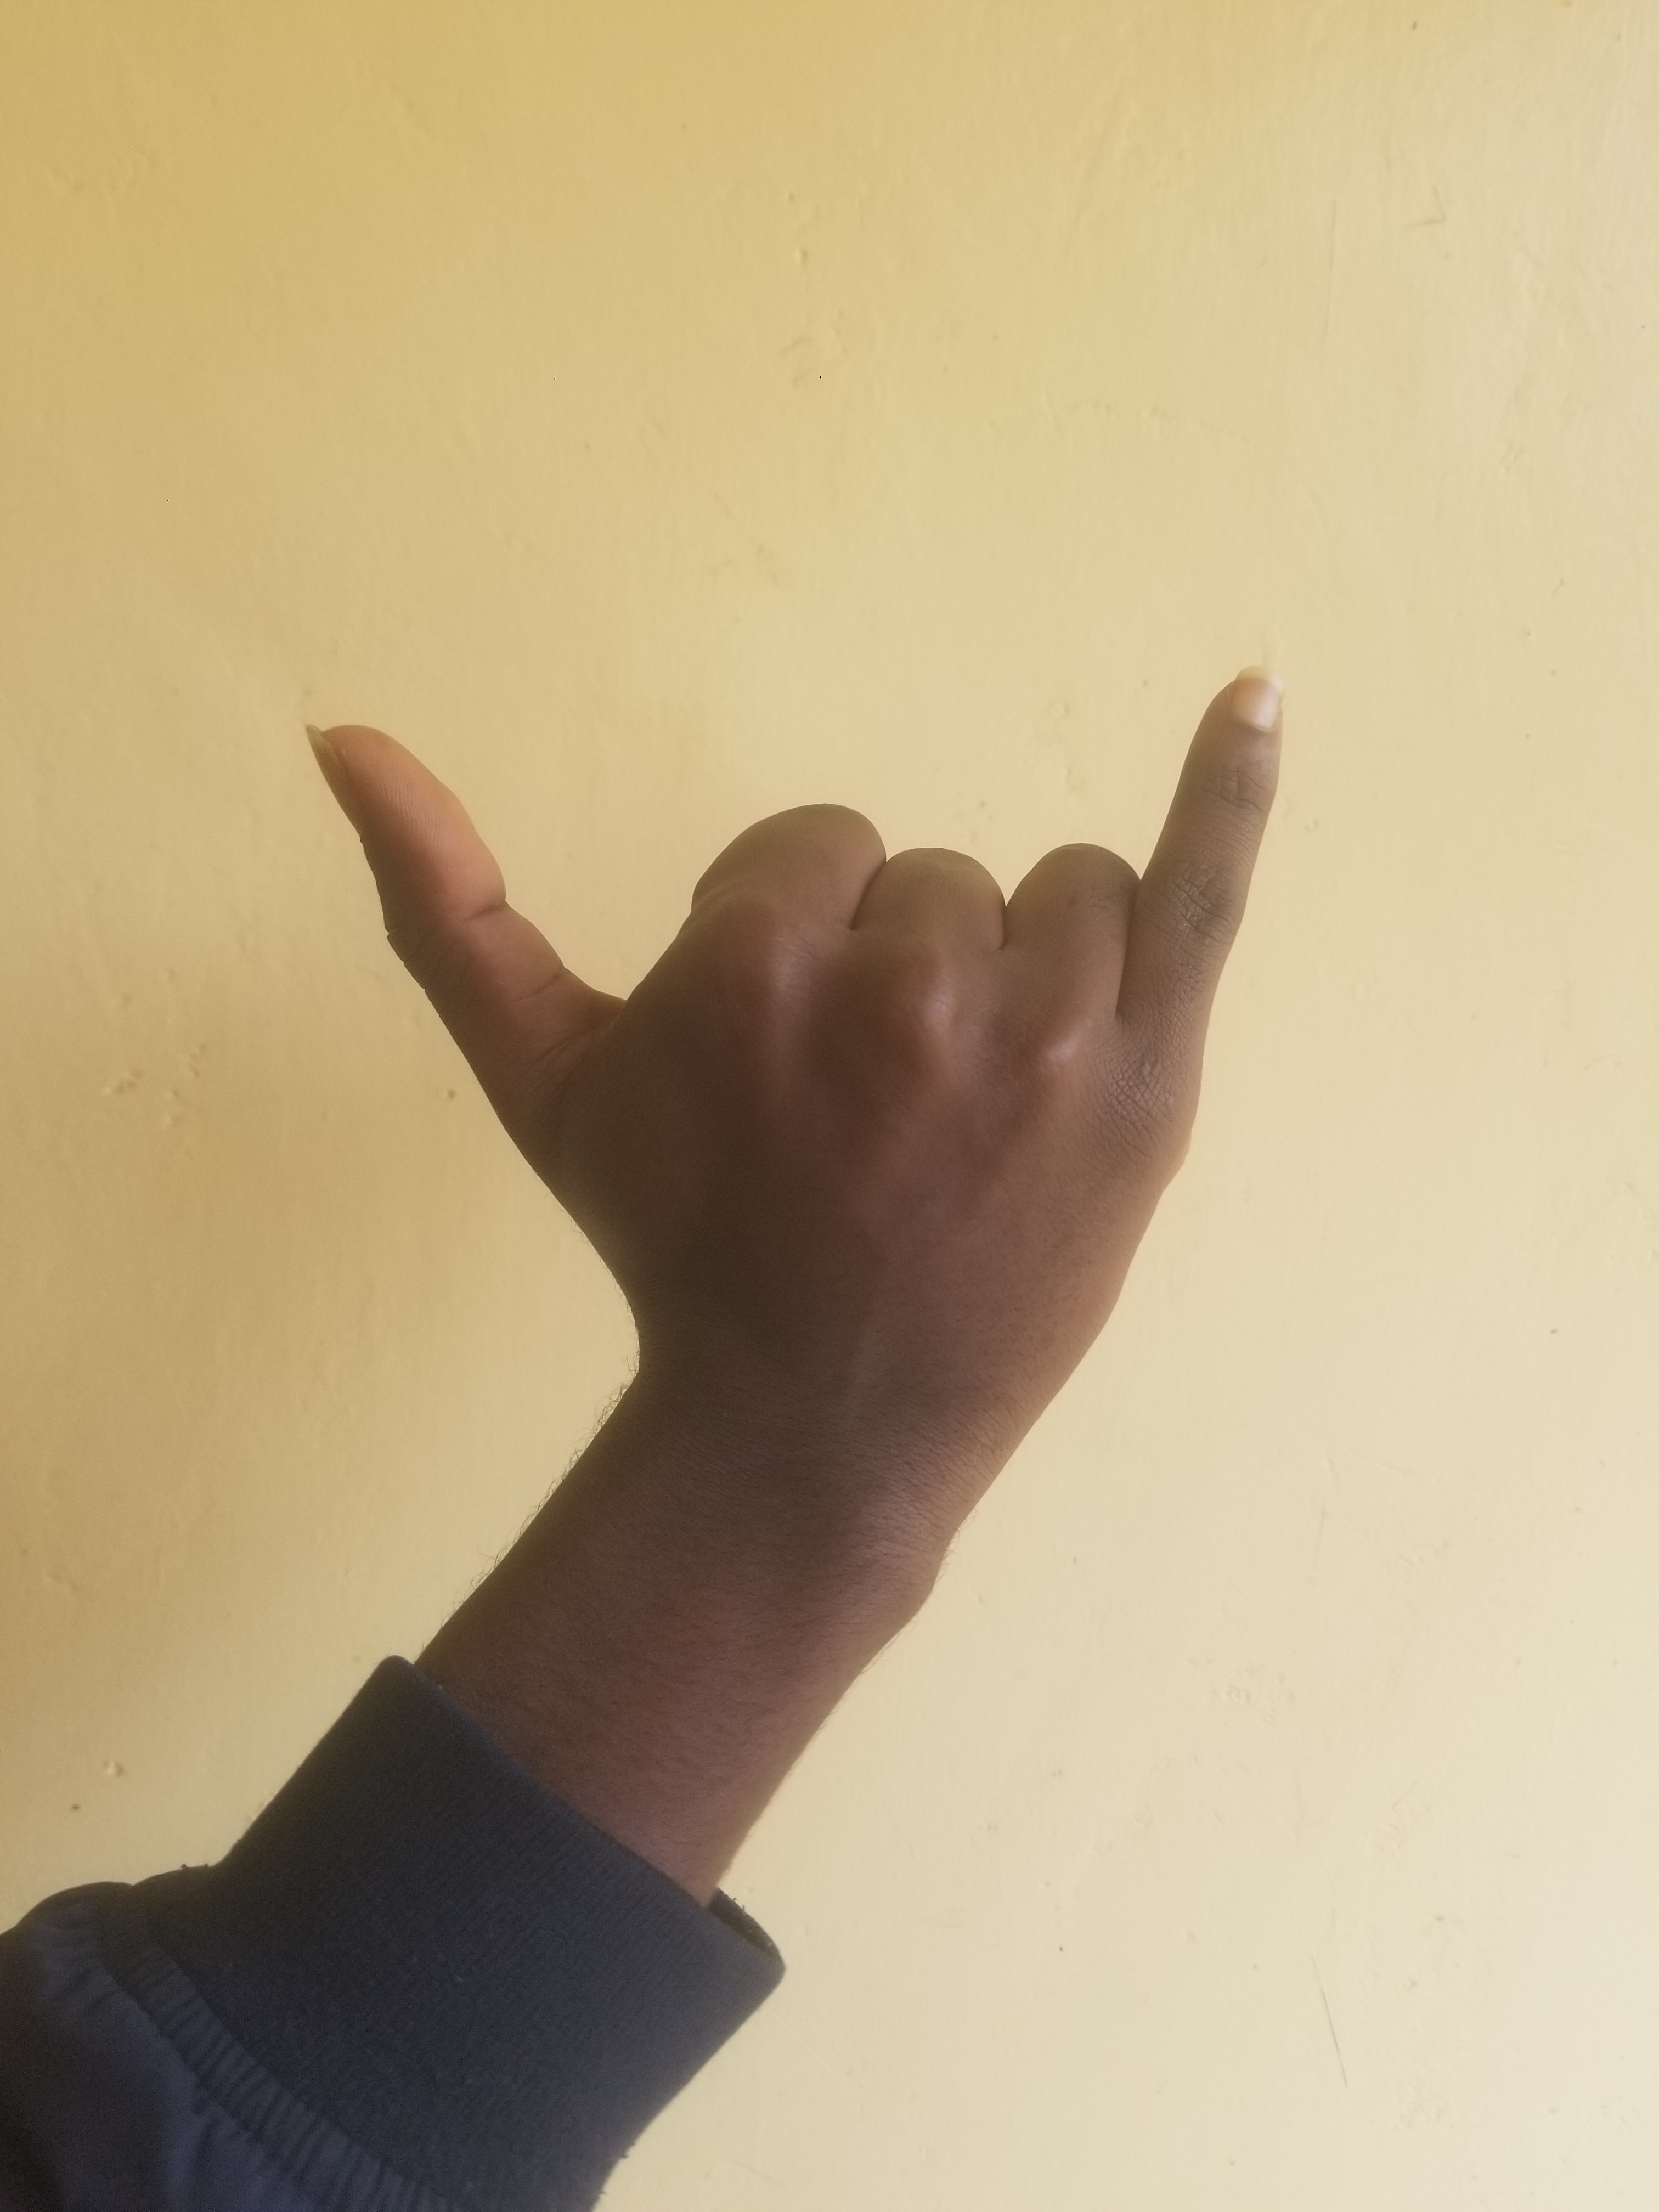call: (213, 439, 1614, 1620)
